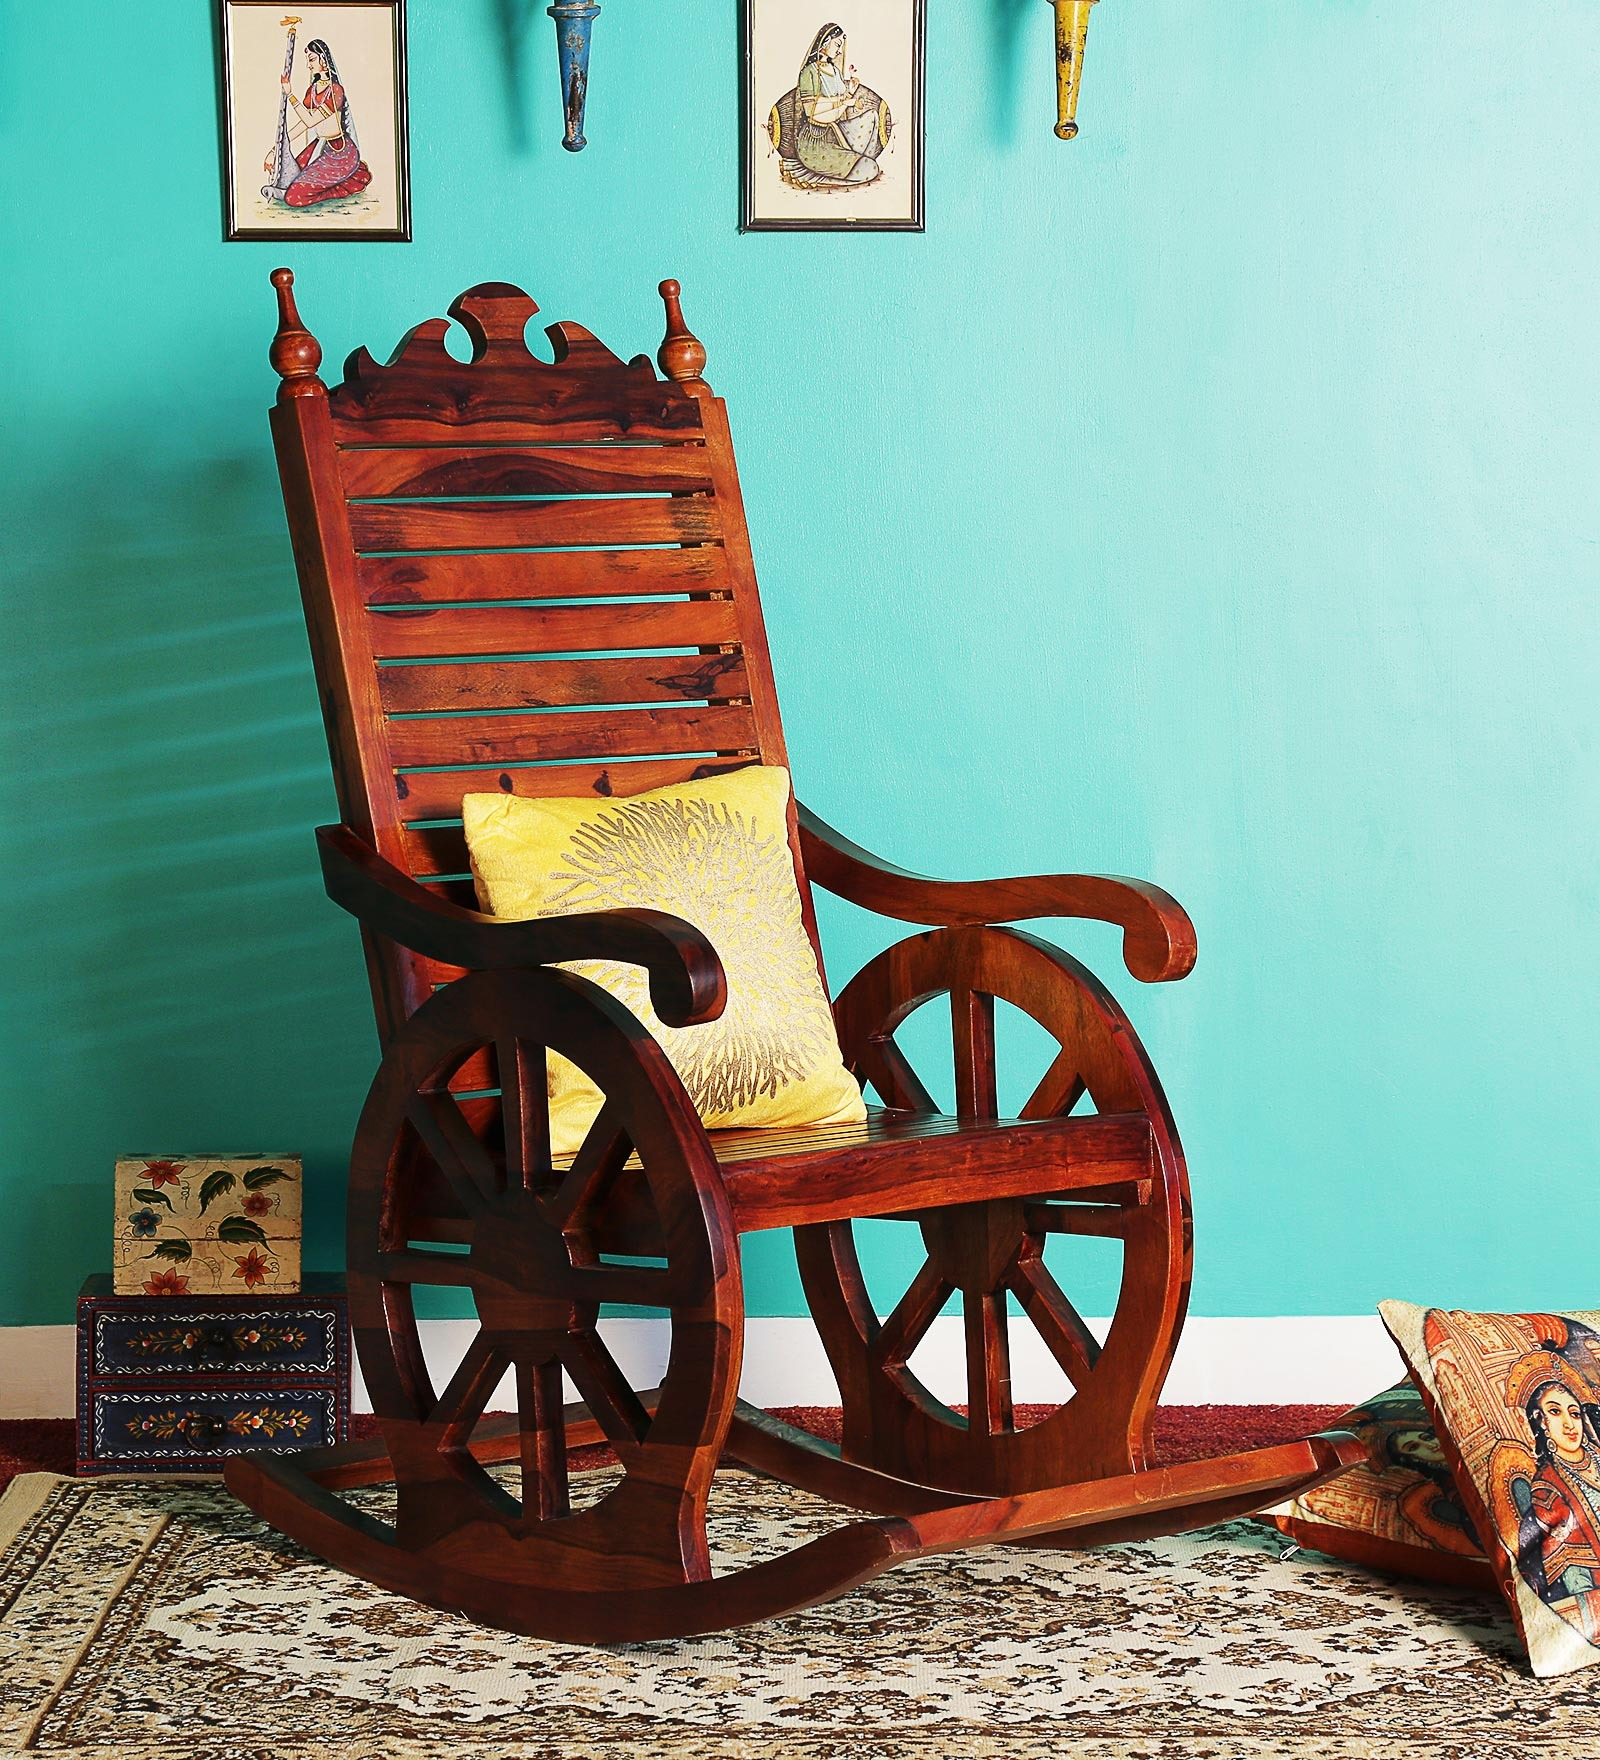Harold Rocking Chair in Honey Oak Finish by Amberville: (176, 254, 1379, 1653)
